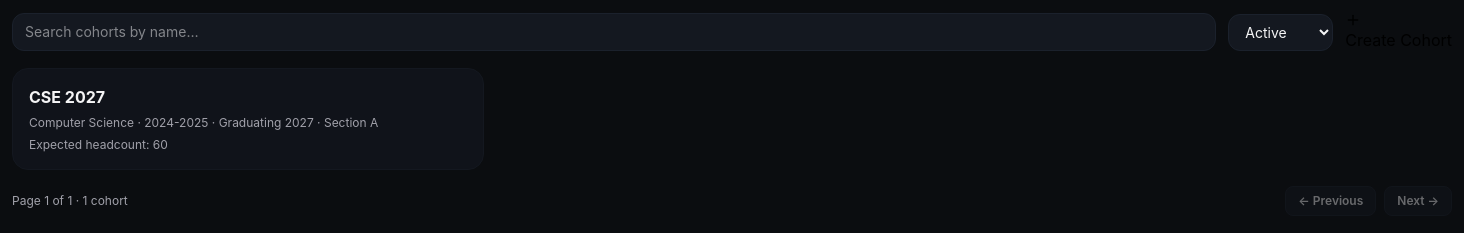
Test case: TpoCohortsPanel › switching the status filter to Archived refetches with the new status
The width and height of the screenshot is (1464, 233).
Expected: the heading "CSE 2027" is shown, 29,85 -> 105,109
Select "Archived" in the dropdown named "filter by status" at (1281, 32), box 1228,14 -> 1333,50
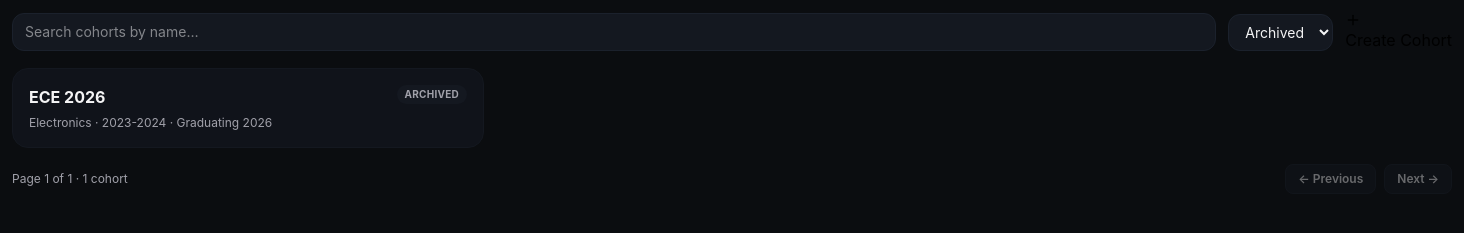
Expected: the heading "ECE 2026" is shown, 29,85 -> 105,109
